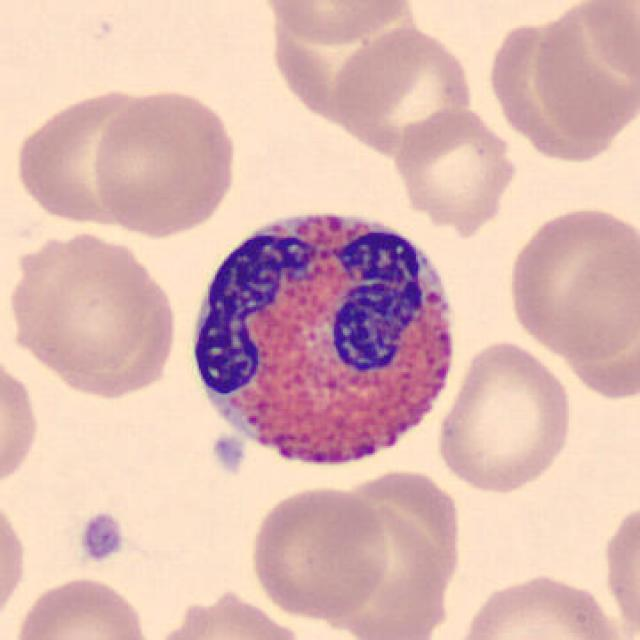Eosinophil: (178, 192, 469, 490)
Platelets: (198, 425, 258, 480), (75, 509, 126, 566)
RBC: (2, 226, 174, 390), (11, 79, 167, 233), (89, 84, 242, 240), (434, 337, 578, 497), (503, 201, 638, 363), (243, 482, 393, 622), (331, 23, 478, 159), (490, 18, 624, 163), (267, 5, 428, 119), (323, 508, 458, 640), (389, 103, 521, 235), (339, 466, 466, 600), (527, 5, 640, 143), (559, 232, 640, 406), (449, 567, 629, 640), (9, 573, 155, 640), (147, 585, 306, 640), (252, 0, 417, 49), (0, 349, 43, 497), (599, 493, 640, 640), (0, 487, 30, 633)
